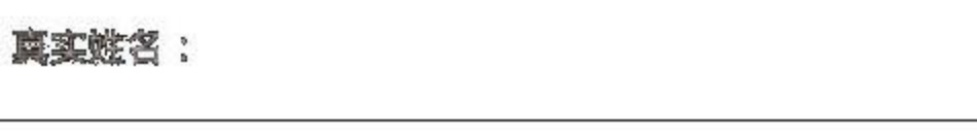EditText: (1, 1, 976, 139)
